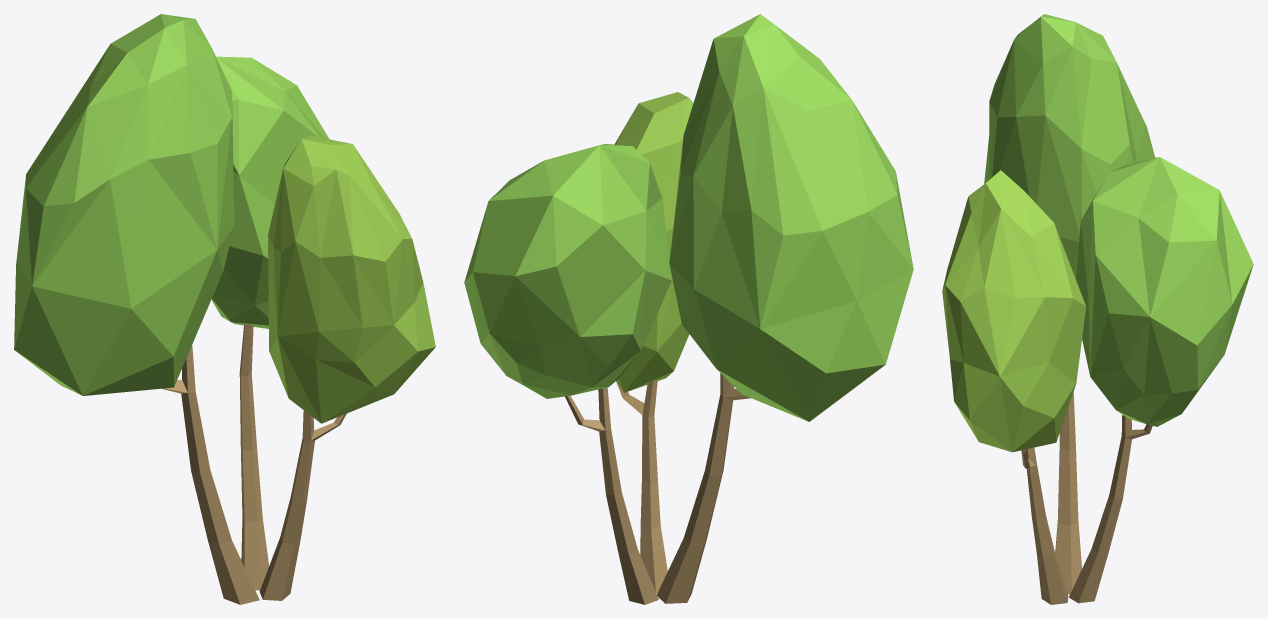
The model's file is Random_Tree_m_02.fbx.
The picture shows the model from 3 angles, left to right: view 1: azimuth 30°, elevation 25°; view 2: azimuth 150°, elevation 25°; view 3: azimuth 270°, elevation 25°; orthographic projection. The views are drawn at different scales.
Parts seen in each view (by area): view 1: Random_Tree_m_02; view 2: Random_Tree_m_02; view 3: Random_Tree_m_02.
Boxes of the visible parts, <box> form: Random_Tree_m_02: <box>14,14,435,604</box>; Random_Tree_m_02: <box>464,14,913,604</box>; Random_Tree_m_02: <box>942,14,1253,604</box>.
Bounding box in the file's own units: 640 × 998 × 522.
